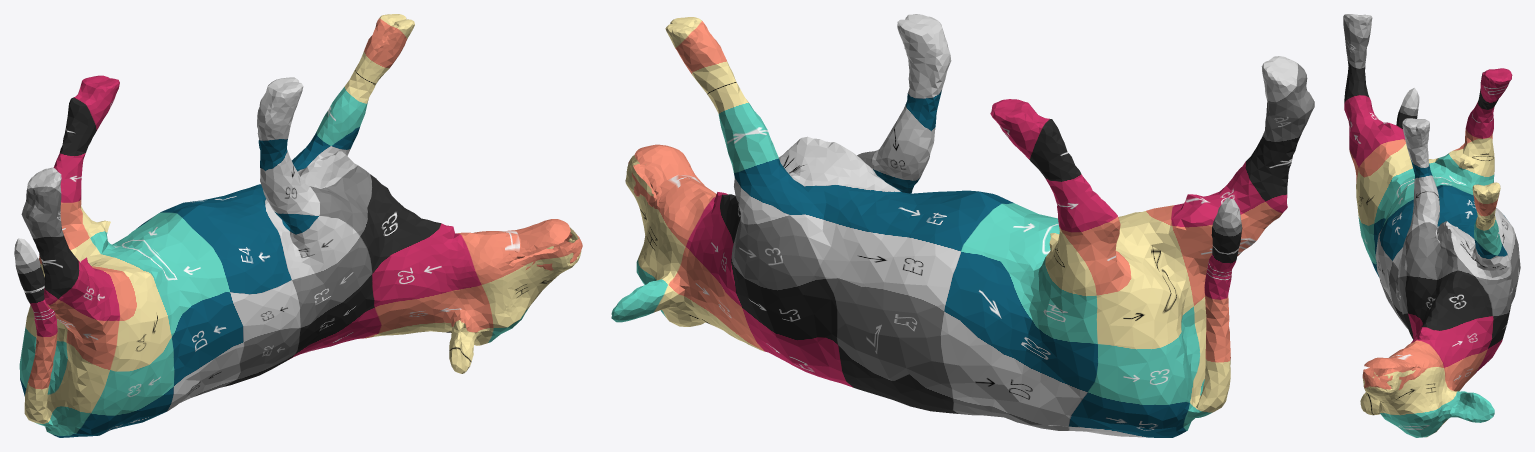
Rendered from dog_08-cow_03.obj.
The picture shows the model from 3 angles, left to right: view 1: azimuth 30°, elevation 25°; view 2: azimuth 150°, elevation 25°; view 3: azimuth 270°, elevation 25°; orthographic projection. The views are drawn at different scales.
Visible parts, largest first — view 1: dog_08-cow_03_export; view 2: dog_08-cow_03_export; view 3: dog_08-cow_03_export.
Part boxes in pixels (x1=…): dog_08-cow_03_export: x1=14, y1=14, x2=582, y2=437; dog_08-cow_03_export: x1=611, y1=14, x2=1314, y2=437; dog_08-cow_03_export: x1=1343, y1=14, x2=1520, y2=437.
Size of the model in its own units: 1 by 0.5262 by 0.3449.
